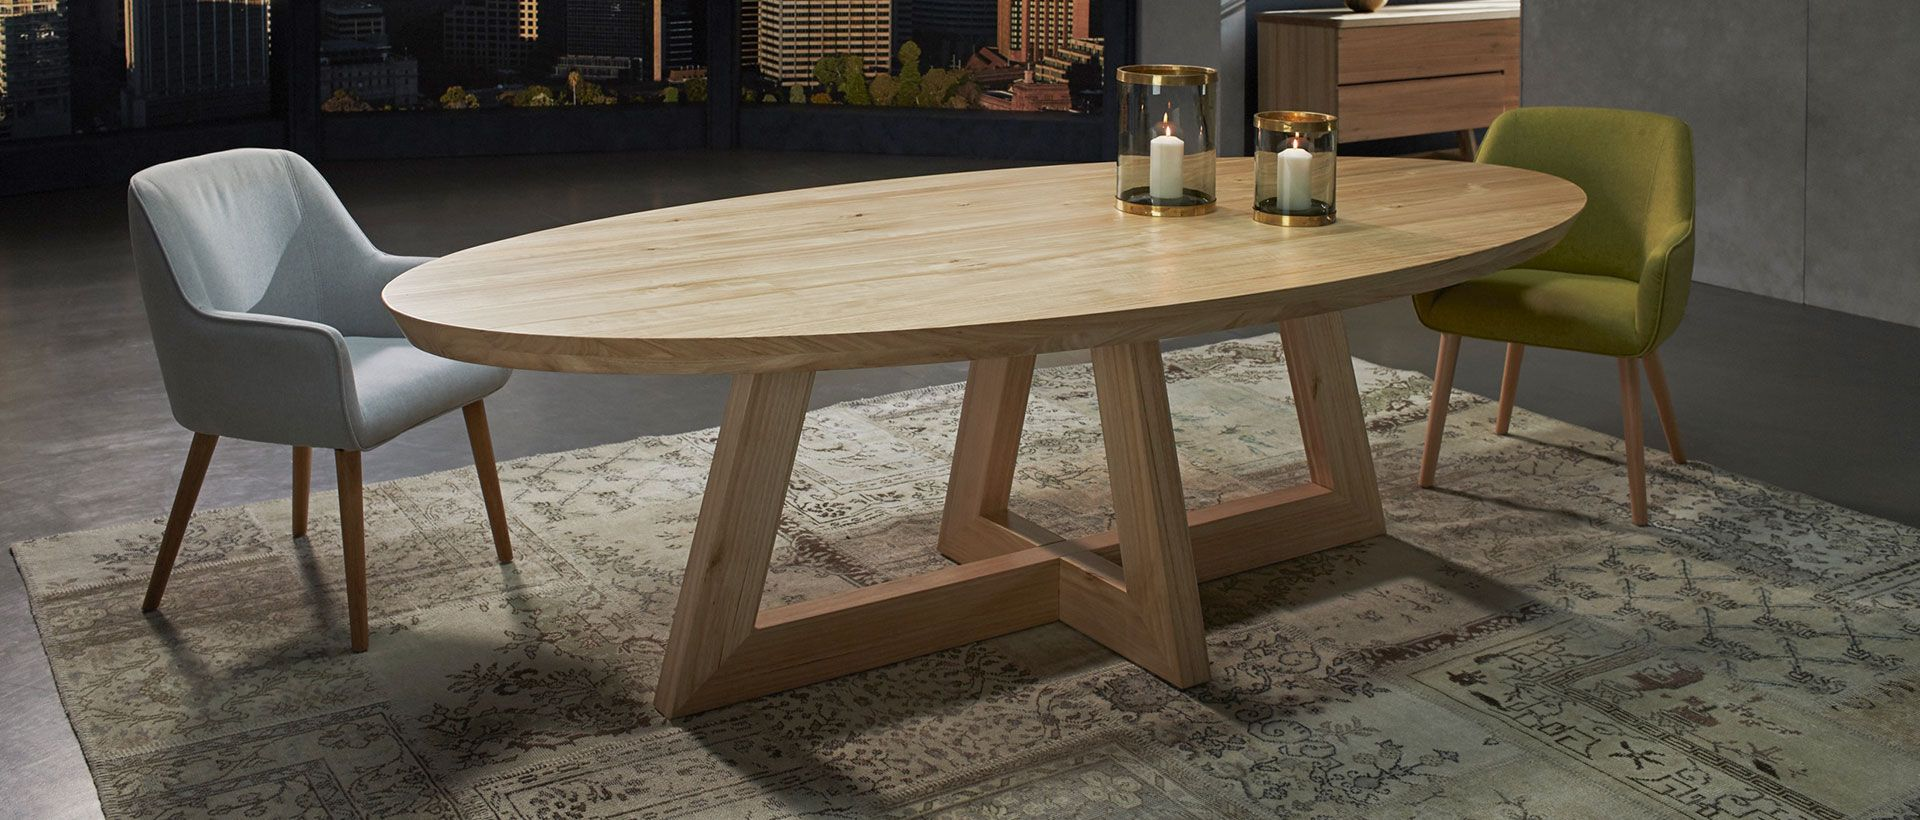chair: (106, 122, 540, 670), (1403, 91, 1717, 547)
table: (368, 125, 1604, 737)
